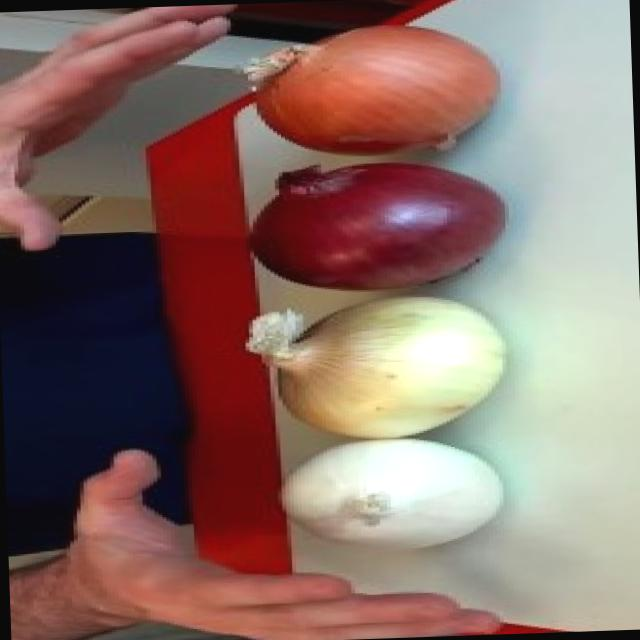onion: (236, 150, 538, 298), (263, 290, 530, 441), (235, 12, 506, 159), (273, 432, 517, 566)
